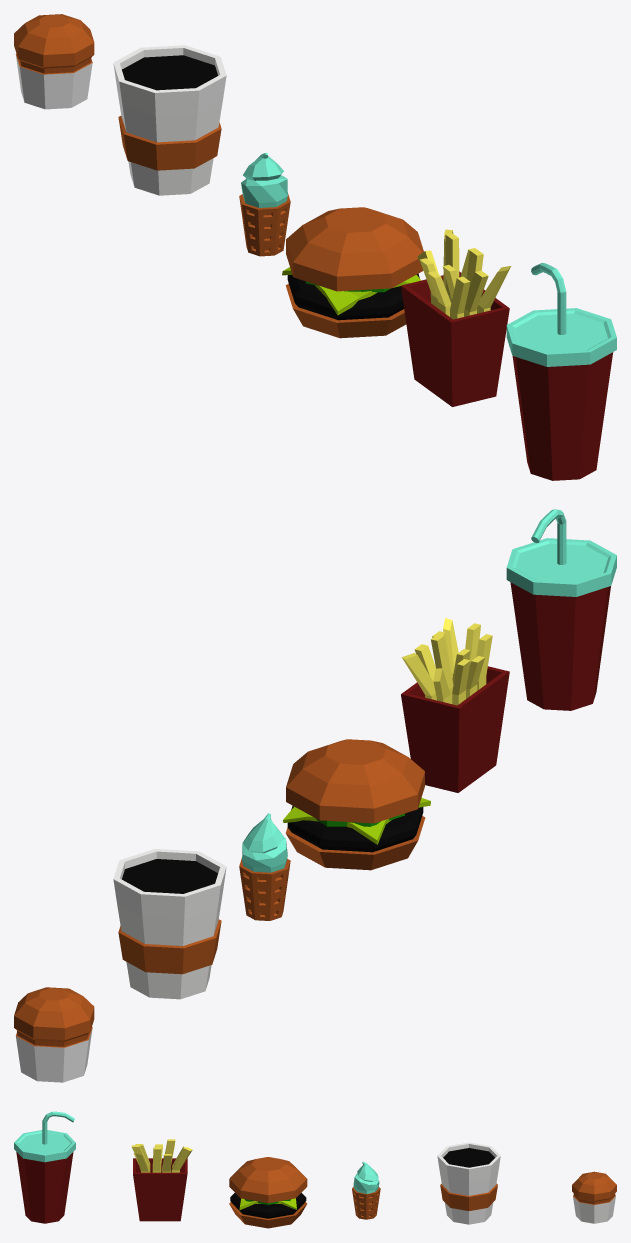
The model's file is Fast food.fbx.
3 views of the same model, one above another, from view 1: azimuth 30°, elevation 25°; view 2: azimuth 150°, elevation 25°; view 3: azimuth 270°, elevation 25° (orthographic). The views are drawn at different scales.
Parts seen in each view (by area): view 1: Soda, Burger, Coffe, Fries, Muffin, Ice cream; view 2: Soda, Burger, Coffe, Fries, Muffin, Ice cream; view 3: Soda, Burger, Coffe, Fries, Muffin, Ice cream.
Part boxes in pixels (<box>): Soda: <box>506,262,616,480</box>; Burger: <box>282,207,423,338</box>; Coffe: <box>113,45,226,195</box>; Fries: <box>401,229,510,406</box>; Muffin: <box>14,14,94,109</box>; Ice cream: <box>239,152,290,256</box>; Soda: <box>506,509,616,710</box>; Burger: <box>283,739,430,870</box>; Coffe: <box>113,849,226,999</box>; Fries: <box>401,618,509,792</box>; Muffin: <box>14,987,94,1082</box>; Ice cream: <box>239,813,290,920</box>; Soda: <box>14,1111,75,1223</box>; Burger: <box>229,1157,307,1228</box>; Coffe: <box>437,1142,500,1224</box>; Fries: <box>131,1139,192,1221</box>; Muffin: <box>572,1171,616,1223</box>; Ice cream: <box>352,1161,380,1219</box>.
Bounding box in the file's own units: 294 × 433 × 2262.
